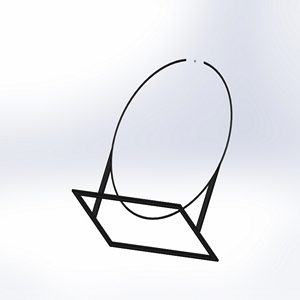circle: (70, 55, 235, 262)
